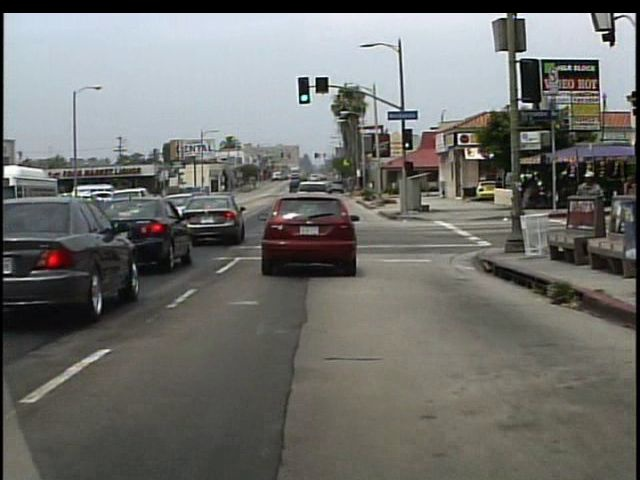person: (572, 167, 607, 255), (493, 175, 505, 207)
